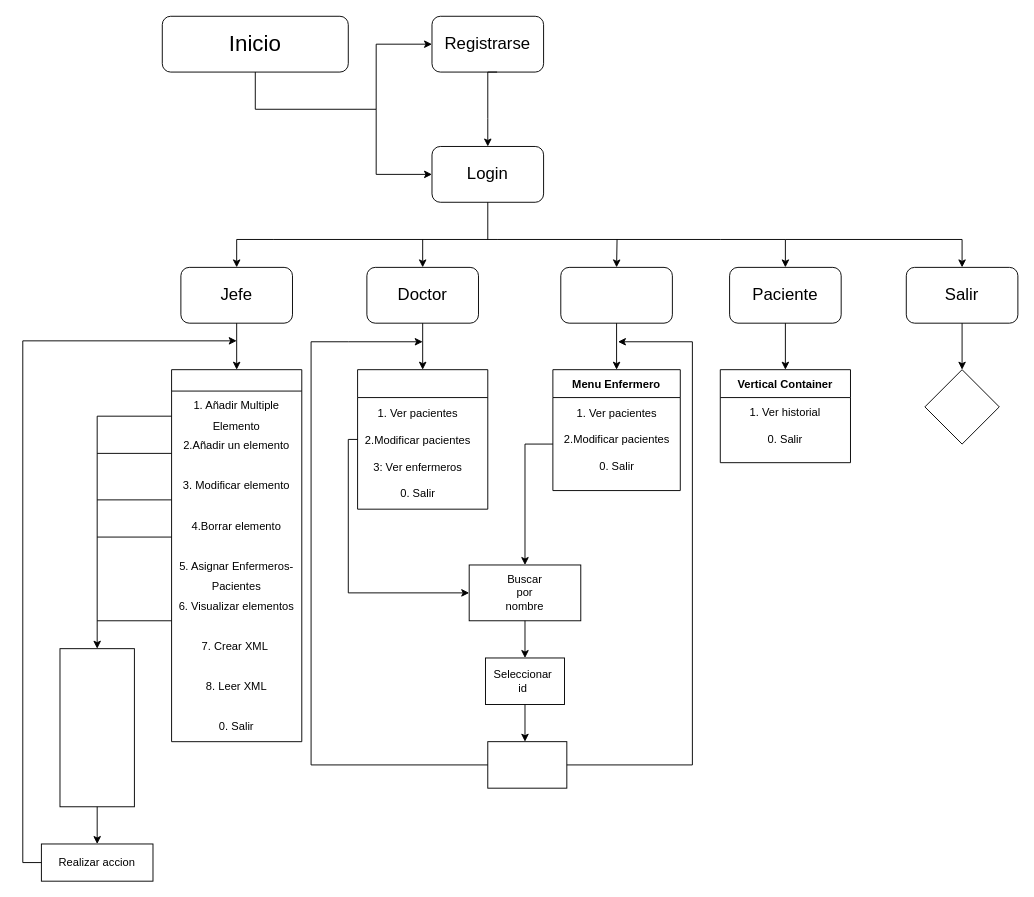
Image size: 1034x897. Some labels were removed from this diagram. The box of each missing label's shape, as (x1, y1, x2, y2) in pixels:
Enfermero: (560, 266, 672, 323)
Fin: (924, 369, 999, 444)
Menu Doctor: (357, 369, 488, 509)
Menu Jefe: (171, 369, 302, 742)
Modificar valores: (487, 741, 567, 788)
Seleccionar elemento: 1.Doctor 2:Enfermero 3.Paciente 0Salr: (59, 648, 134, 807)
